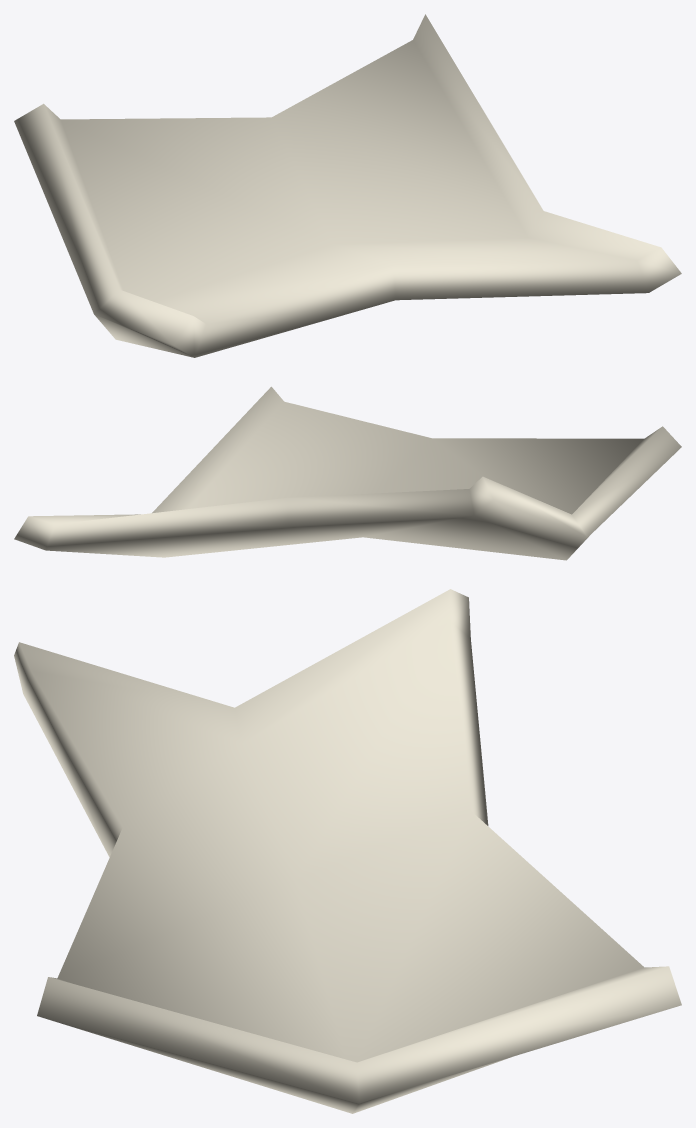
3 views of the same model, one above another, from view 1: azimuth 30°, elevation 25°; view 2: azimuth 150°, elevation 25°; view 3: azimuth 270°, elevation 25° (orthographic). The views are drawn at different scales.
Parts seen in each view (by area): view 1: ZA_58503f4a6ce2e3dc; view 2: ZA_58503f4a6ce2e3dc; view 3: ZA_58503f4a6ce2e3dc.
Part boxes in pixels (bbox=[...]): ZA_58503f4a6ce2e3dc: bbox=[14, 14, 681, 357]; ZA_58503f4a6ce2e3dc: bbox=[14, 386, 681, 560]; ZA_58503f4a6ce2e3dc: bbox=[14, 589, 681, 1113].
Bounding box in the file's own units: 0.00888 × 0.00373 × 0.00816.
